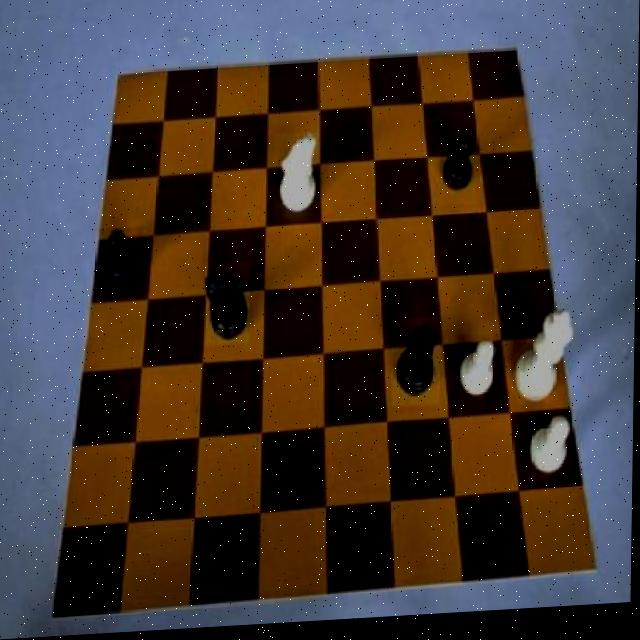black-king: (205, 263, 251, 348)
black-knight: (433, 137, 478, 212), (98, 229, 143, 297)
black-queen: (394, 322, 442, 412)
white-bishop: (514, 311, 578, 417)
white-king: (274, 136, 319, 228)
white-knight: (523, 413, 578, 489), (457, 339, 502, 414)
